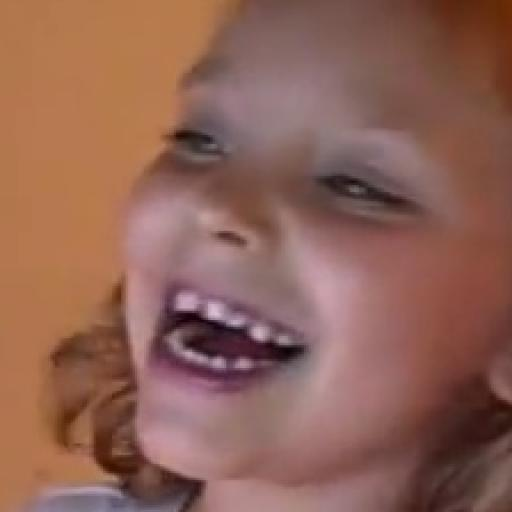Autism: (38, 18, 512, 512)
